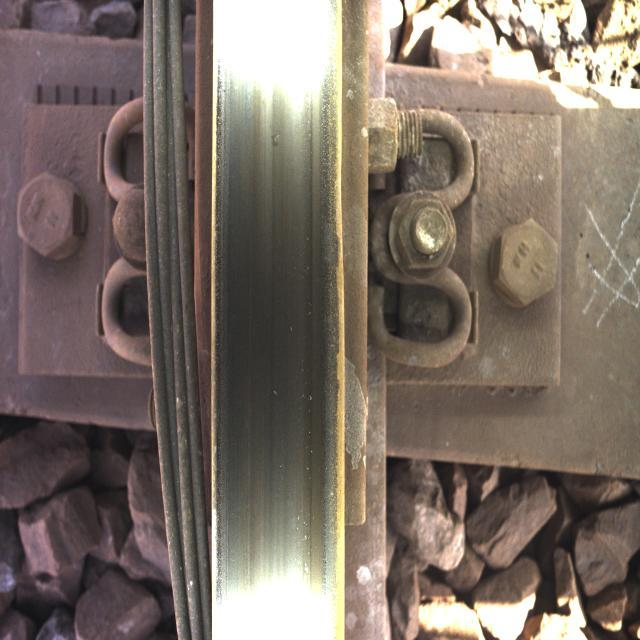break: (215, 40, 326, 612)
